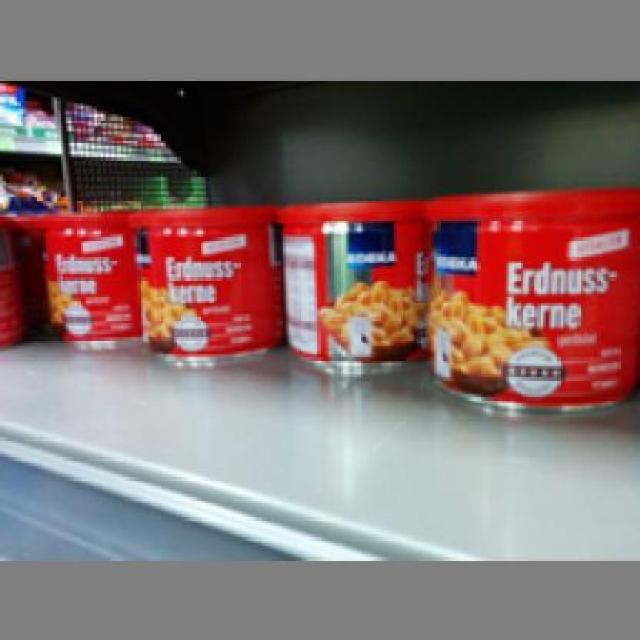Nuts: (422, 186, 638, 412), (268, 196, 428, 372), (125, 202, 281, 368), (34, 212, 137, 348)
